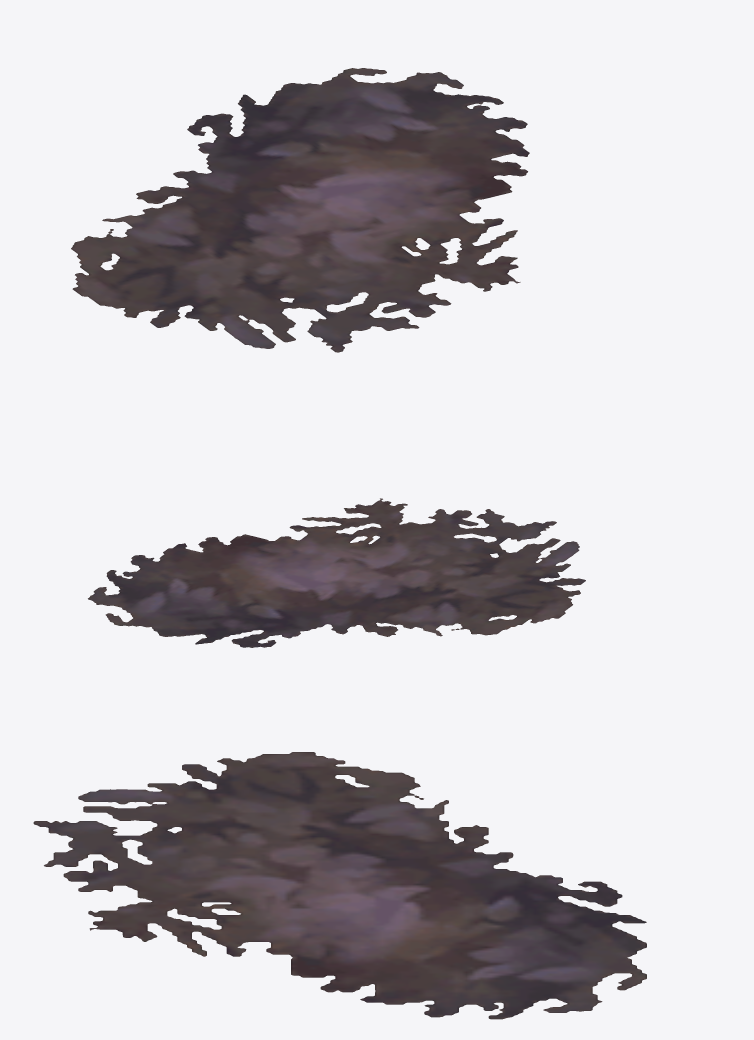
Rendered from yw_shanlin_ground_029.FBX.
3 views of the same model, one above another, from view 1: azimuth 30°, elevation 25°; view 2: azimuth 150°, elevation 25°; view 3: azimuth 270°, elevation 25° (orthographic). The views are drawn at different scales.
Parts seen in each view (by area): view 1: yw_shanlin_ground_029; view 2: yw_shanlin_ground_029; view 3: yw_shanlin_ground_029.
Part boxes in pixels (x1,y1,x2,y2): yw_shanlin_ground_029: [71, 68, 529, 352]; yw_shanlin_ground_029: [88, 498, 585, 647]; yw_shanlin_ground_029: [33, 752, 646, 1019].
Size of the model in its own units: 166 by 9.54e-15 by 156.
